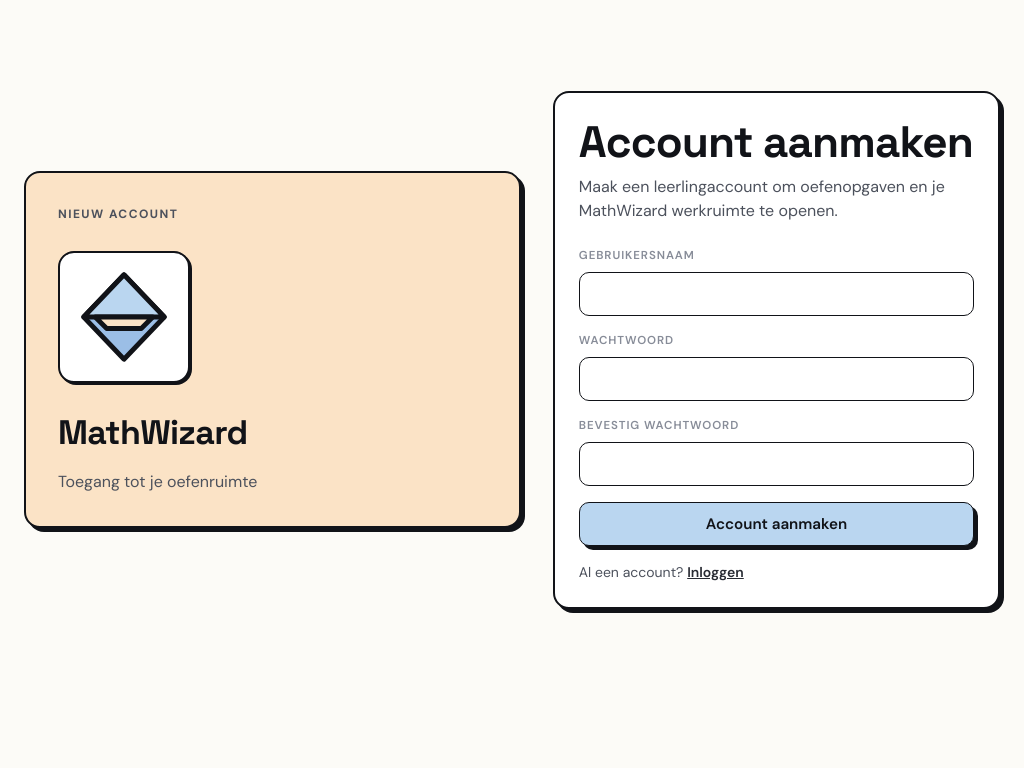
Test: Signup › blocks submit when passwords differ
Type "ada" into the field labelled "Gebruikersnaam".
click(776, 294); type("ada")  # box [579,272,974,316]
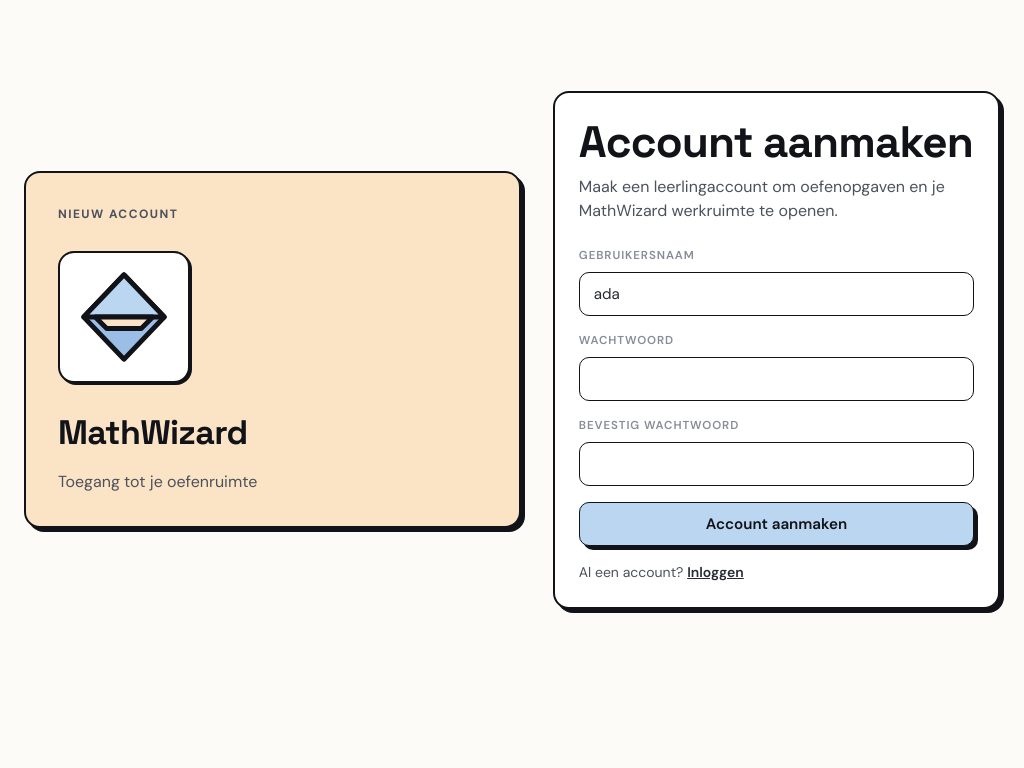
Type "password1" into the password field labelled "Wachtwoord".
click(776, 379); type("password1")  # box [579,357,974,401]
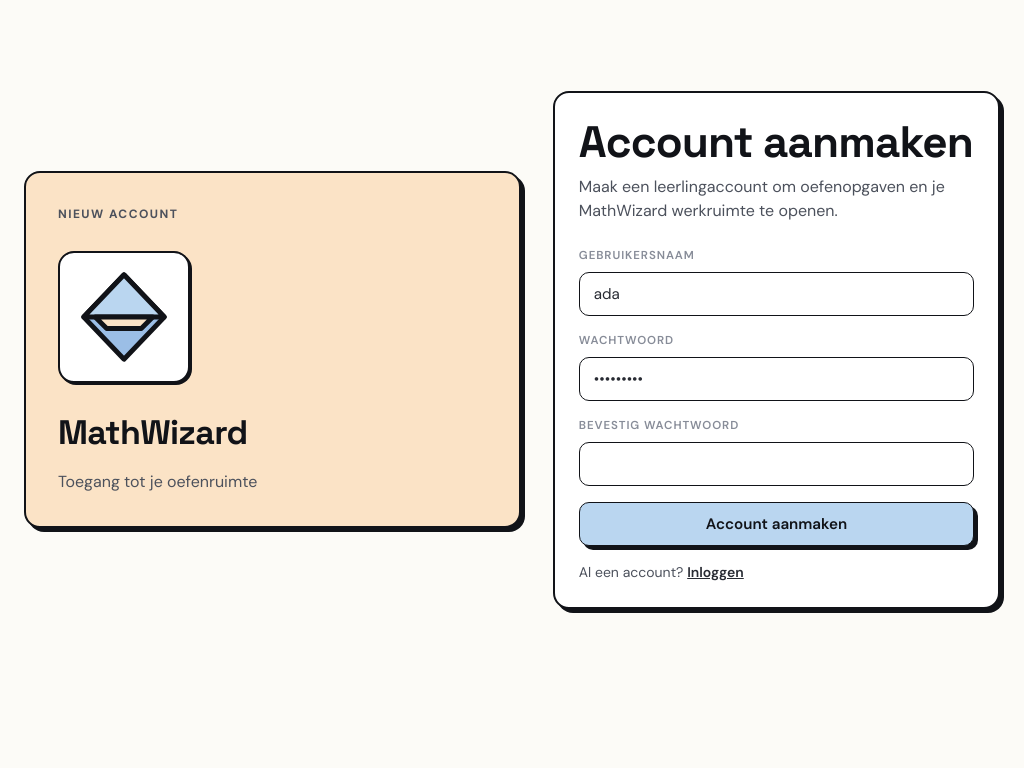
Type "password2" into the password field labelled "Bevestig wachtwoord".
click(776, 464); type("password2")  # box [579,442,974,486]
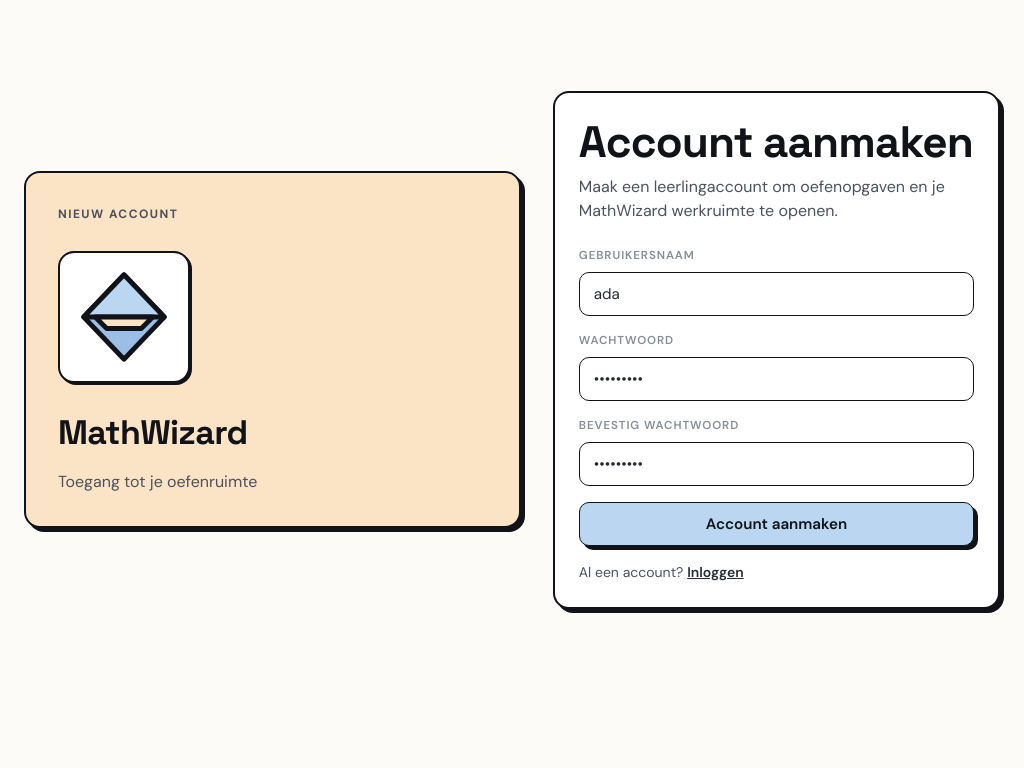
Click the button "Account aanmaken".
click(776, 524)  # box [579,502,974,546]
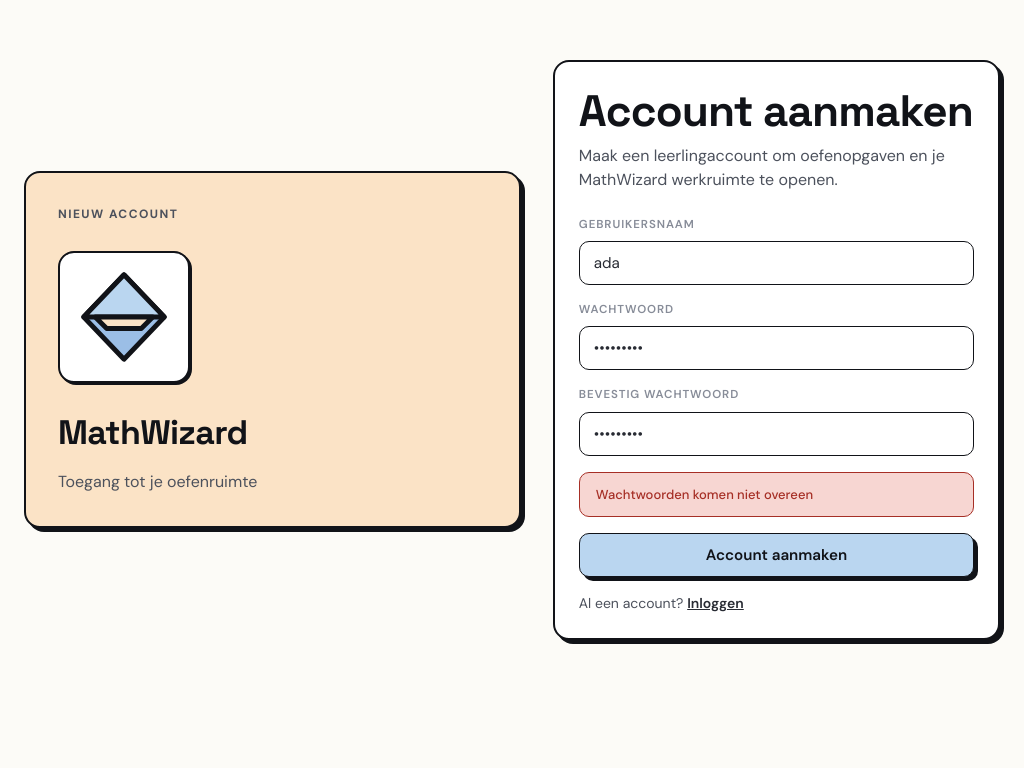
Check: the message reads "Wachtwoorden komen niet overeen", box [596,486,813,503]
